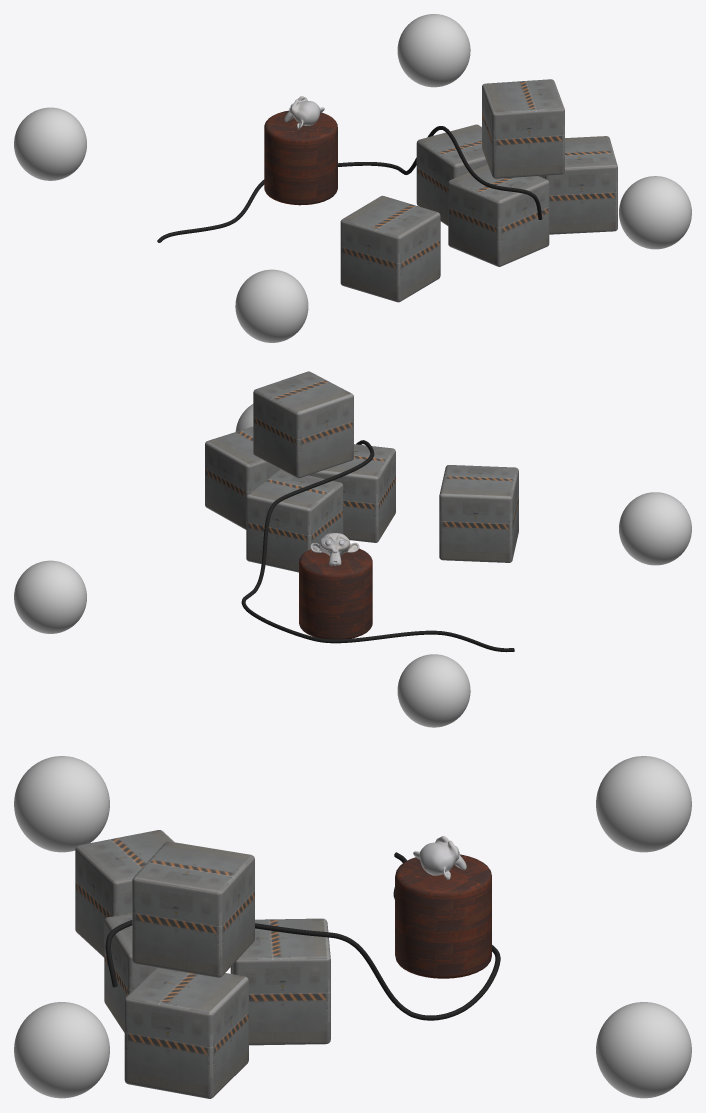
3 views of the same model, one above another, from view 1: azimuth 30°, elevation 25°; view 2: azimuth 150°, elevation 25°; view 3: azimuth 270°, elevation 25° (orthographic). The views are drawn at different scales.
Visible parts, largest first — view 1: Cube.003, Cube.000, Cube.004, Cylinder.001, Cube.001, Sphere.003, Sphere.002, Sphere.000, Sphere.001, Cube.002, Cylinder, Suzanne; view 2: Cube.004, Cube.003, Cube.002, Cylinder.001, Cube.000, Cube.001, Sphere.003, Sphere.000, Sphere.001, Cylinder, Suzanne; view 3: Cube.004, Cube.001, Cylinder.001, Cube.002, Sphere.003, Sphere.000, Sphere.002, Sphere.001, Cube.003, Cube.000, Cylinder, Suzanne.
Boxes of the visible parts, x1,y1,x2,y2 form: Cube.003: (340,195,440,302); Cube.000: (448,164,549,266); Cube.004: (482,79,564,178); Cylinder.001: (264,110,337,205); Cube.001: (539,136,617,234); Sphere.003: (14,107,86,180); Sphere.002: (619,176,691,249); Sphere.000: (397,14,470,87); Sphere.001: (235,269,308,342); Cube.002: (416,124,487,225); Cylinder: (157,126,542,242); Suzanne: (284,96,324,129); Cube.004: (253,371,353,478); Cube.003: (439,465,518,562); Cube.002: (246,469,343,572); Cylinder.001: (299,548,372,639); Cube.000: (309,444,395,542); Cube.001: (205,426,279,529); Sphere.003: (397,654,470,727); Sphere.000: (14,560,86,633); Sphere.001: (619,492,691,565); Cylinder: (241,440,514,652); Suzanne: (310,533,359,565); Cube.004: (132,841,254,977); Cube.001: (124,967,248,1098); Cylinder.001: (395,854,491,978); Cube.002: (230,918,330,1045); Sphere.003: (596,756,691,852); Sphere.000: (596,1002,691,1098); Sphere.002: (14,1002,109,1098); Sphere.001: (14,756,109,852); Cube.003: (75,830,174,957); Cube.000: (104,914,155,1032); Cylinder: (105,852,500,1020); Suzanne: (413,836,466,879).
Size of what is drawn, in the model's own units: 140 by 40.02 by 140.
5 materials, 4 textured.
